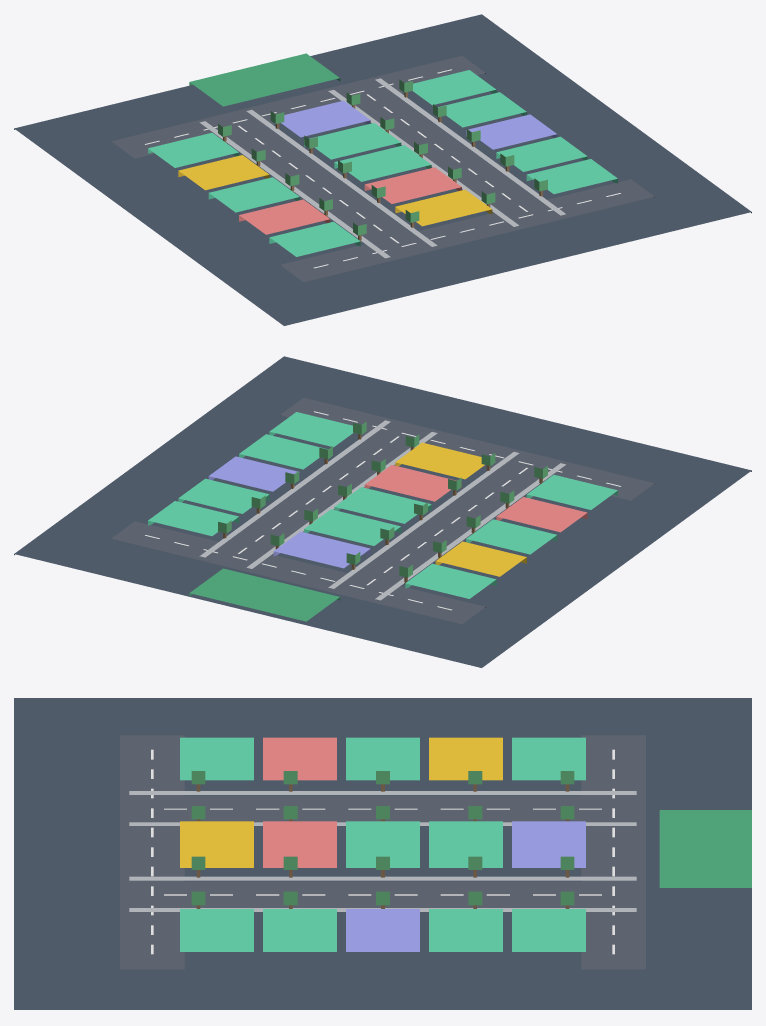
The model's file is society.glb.
3 renders of one model, top to bottom at view 1: azimuth 30°, elevation 25°; view 2: azimuth 150°, elevation 25°; view 3: azimuth 270°, elevation 25°, orthographic. The views are drawn at different scales.
Visible parts, largest first — view 1: Ground, Roads, Curbs, Community_Park, Landscaping_Trees, Plot_006, Plot_010, Plot_009, Plot_008, Plot_007, Plot_003, Plot_005 (+9 smaller); view 2: Ground, Roads, Curbs, Community_Park, Landscaping_Trees, Plot_010, Plot_006, Plot_007, Plot_008, Plot_009, Plot_001, Plot_003 (+9 smaller); view 3: Ground, Roads, Community_Park, Curbs, Landscaping_Trees, Plot_006, Plot_007, Plot_009, Plot_010, Plot_008, Plot_011, Plot_012 (+9 smaller).
Part boxes in pixels (bbox=[...]): Ground: bbox=[14, 14, 751, 325]; Roads: bbox=[111, 56, 654, 281]; Curbs: bbox=[199, 78, 566, 258]; Community_Park: bbox=[189, 53, 340, 106]; Landscaping_Trees: bbox=[218, 79, 547, 241]; Plot_006: bbox=[281, 100, 370, 137]; Plot_010: bbox=[395, 189, 492, 226]; Plot_009: bbox=[364, 167, 461, 203]; Plot_008: bbox=[334, 145, 431, 181]; Plot_007: bbox=[304, 123, 401, 159]; Plot_003: bbox=[208, 177, 299, 212]; Plot_005: bbox=[269, 221, 360, 256]; Ground: bbox=[14, 356, 751, 667]; Roads: bbox=[111, 398, 654, 623]; Curbs: bbox=[199, 420, 566, 600]; Community_Park: bbox=[189, 568, 340, 621]; Landscaping_Trees: bbox=[218, 421, 547, 583]; Plot_010: bbox=[395, 442, 484, 479]; Plot_006: bbox=[273, 531, 370, 568]; Plot_007: bbox=[304, 509, 401, 545]; Plot_008: bbox=[334, 487, 431, 523]; Plot_009: bbox=[364, 465, 461, 501]; Plot_001: bbox=[405, 563, 496, 598]; Plot_003: bbox=[466, 519, 557, 554]; Ground: bbox=[14, 698, 751, 1009]; Roads: bbox=[120, 735, 645, 969]; Community_Park: bbox=[659, 810, 751, 887]; Curbs: bbox=[129, 791, 636, 911]; Landscaping_Trees: bbox=[191, 771, 574, 908]; Plot_006: bbox=[512, 821, 585, 867]; Plot_007: bbox=[429, 821, 502, 867]; Plot_009: bbox=[263, 821, 336, 867]; Plot_010: bbox=[180, 821, 253, 867]; Plot_008: bbox=[346, 821, 419, 867]; Plot_011: bbox=[512, 909, 585, 951]; Plot_012: bbox=[429, 909, 502, 951].
Bounding box in the file's own units: 160 × 6.6 × 160.
